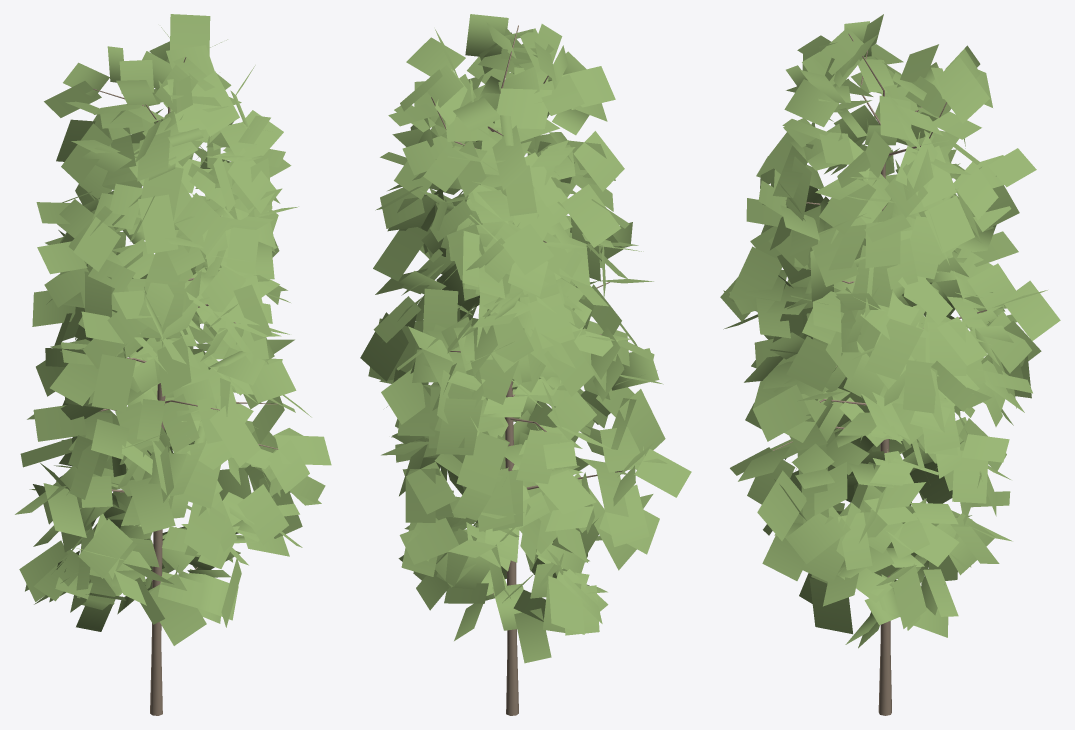
The model's file is Birch_12_young_lod1.glb.
The picture shows the model from 3 angles, left to right: view 1: azimuth 30°, elevation 25°; view 2: azimuth 150°, elevation 25°; view 3: azimuth 270°, elevation 25°; orthographic projection. The views are drawn at different scales.
Parts seen in each view (by area): view 1: Birch_12_young_lod1; view 2: Birch_12_young_lod1; view 3: Birch_12_young_lod1.
Boxes of the visible parts, x1,y1,x2,y2 form: Birch_12_young_lod1: (15, 14, 331, 715); Birch_12_young_lod1: (360, 14, 691, 715); Birch_12_young_lod1: (720, 14, 1060, 715).
Size of the model in its own units: 4.03 by 9.01 by 4.02.
